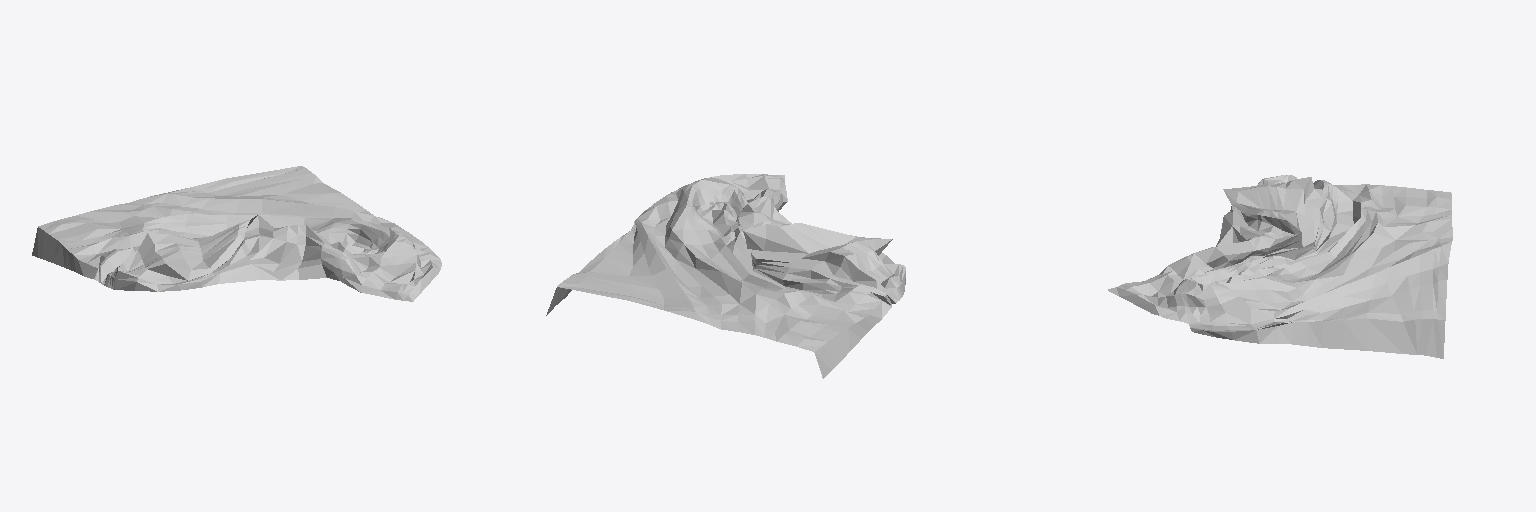
Rendered from Sheets01.obj.
The picture shows the model from 3 angles: view 1: azimuth 30°, elevation 25°; view 2: azimuth 150°, elevation 25°; view 3: azimuth 270°, elevation 25°; orthographic projection.
Parts seen in each view (by area): view 1: polySurface3; view 2: polySurface3; view 3: polySurface3.
Boxes of the visible parts, box(x1,y1,x2,y2) form: polySurface3: box(32, 166, 441, 301); polySurface3: box(546, 174, 905, 378); polySurface3: box(1108, 175, 1452, 358).
Bounding box in the file's own units: 154 × 35.75 × 162.